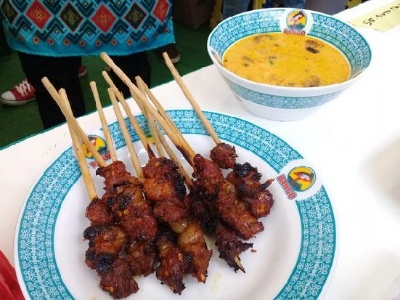sate: (42, 50, 271, 282)
